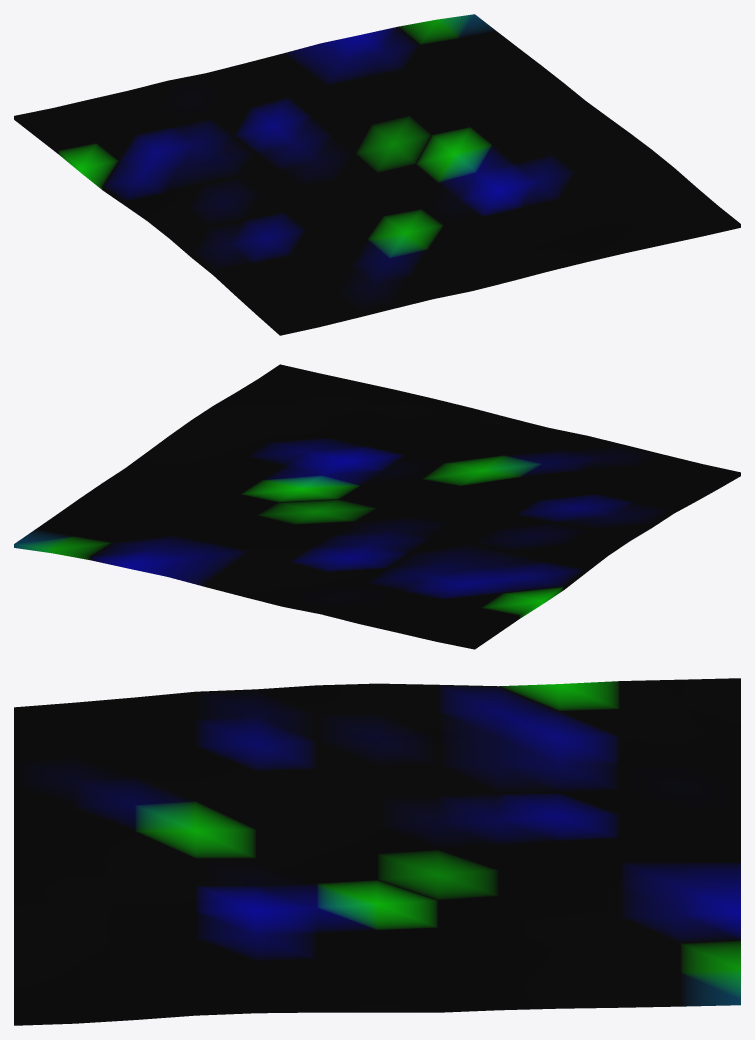
The model's file is coast_19_6.glb.
3 views of the same model, one above another, from view 1: azimuth 30°, elevation 25°; view 2: azimuth 150°, elevation 25°; view 3: azimuth 270°, elevation 25° (orthographic). The views are drawn at different scales.
Visible parts, largest first — view 1: terrain; view 2: terrain; view 3: terrain.
Part boxes in pixels (box(x1,y1,x2,y2)): terrain: box(14, 14, 740, 335); terrain: box(14, 364, 740, 649); terrain: box(14, 678, 740, 1025).
Bounding box in the file's own units: 192 × 11.76 × 192.
